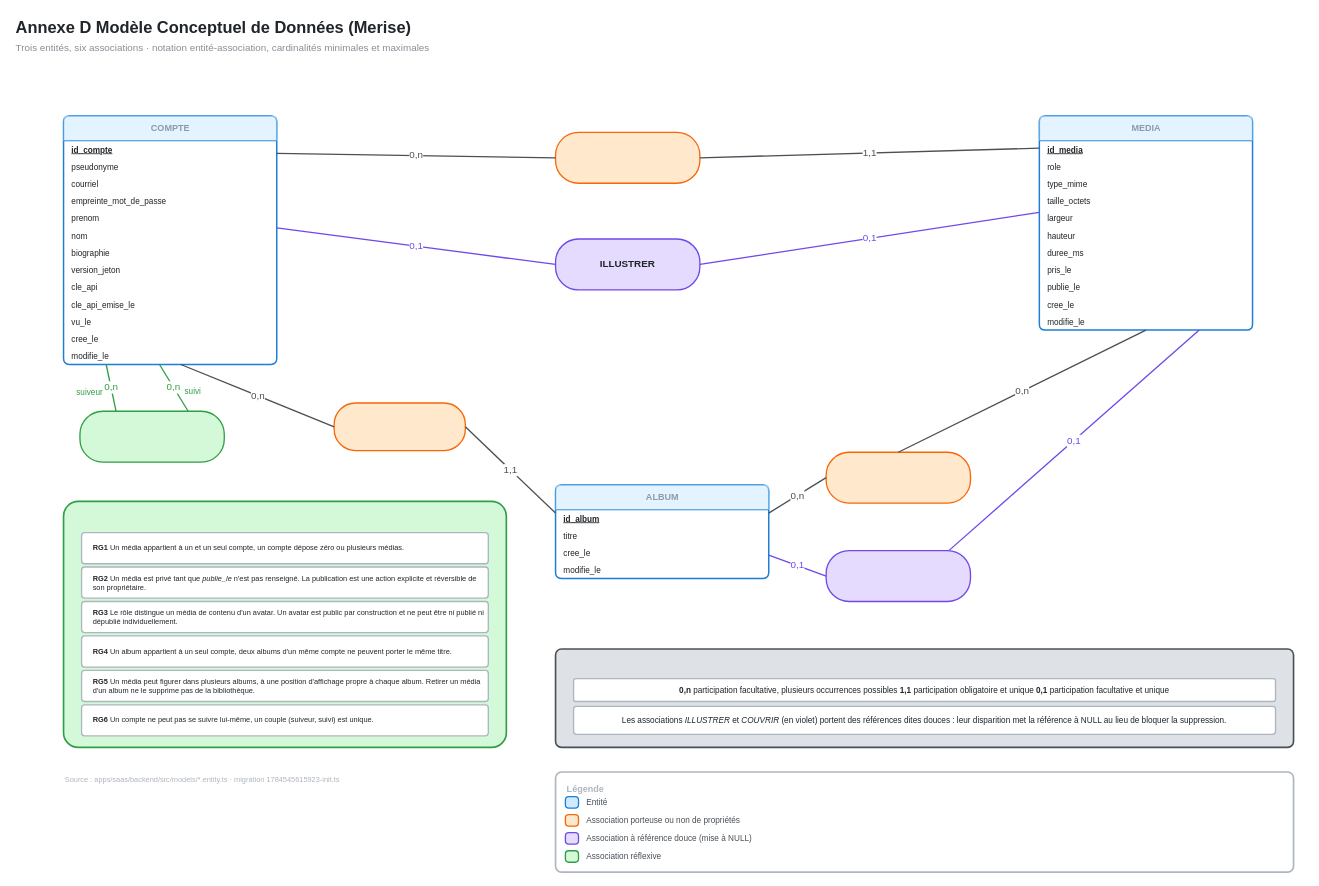
Image size: 1319x886. Some labels were removed from this diagram. Here are the shapes that lost their labels. From the top down, the box of each, then its label:
(554, 131, 700, 184): DÉPOSER
(79, 410, 225, 462): SUIVRE suivi_depuis
(333, 402, 466, 451): CRÉER
(825, 451, 971, 503): CONTENIR position ajoute_le
(825, 550, 971, 602): COUVRIR
(62, 500, 507, 748): RÈGLES DE GESTION
(554, 648, 1294, 748): LECTURE DES CARDINALITÉS
